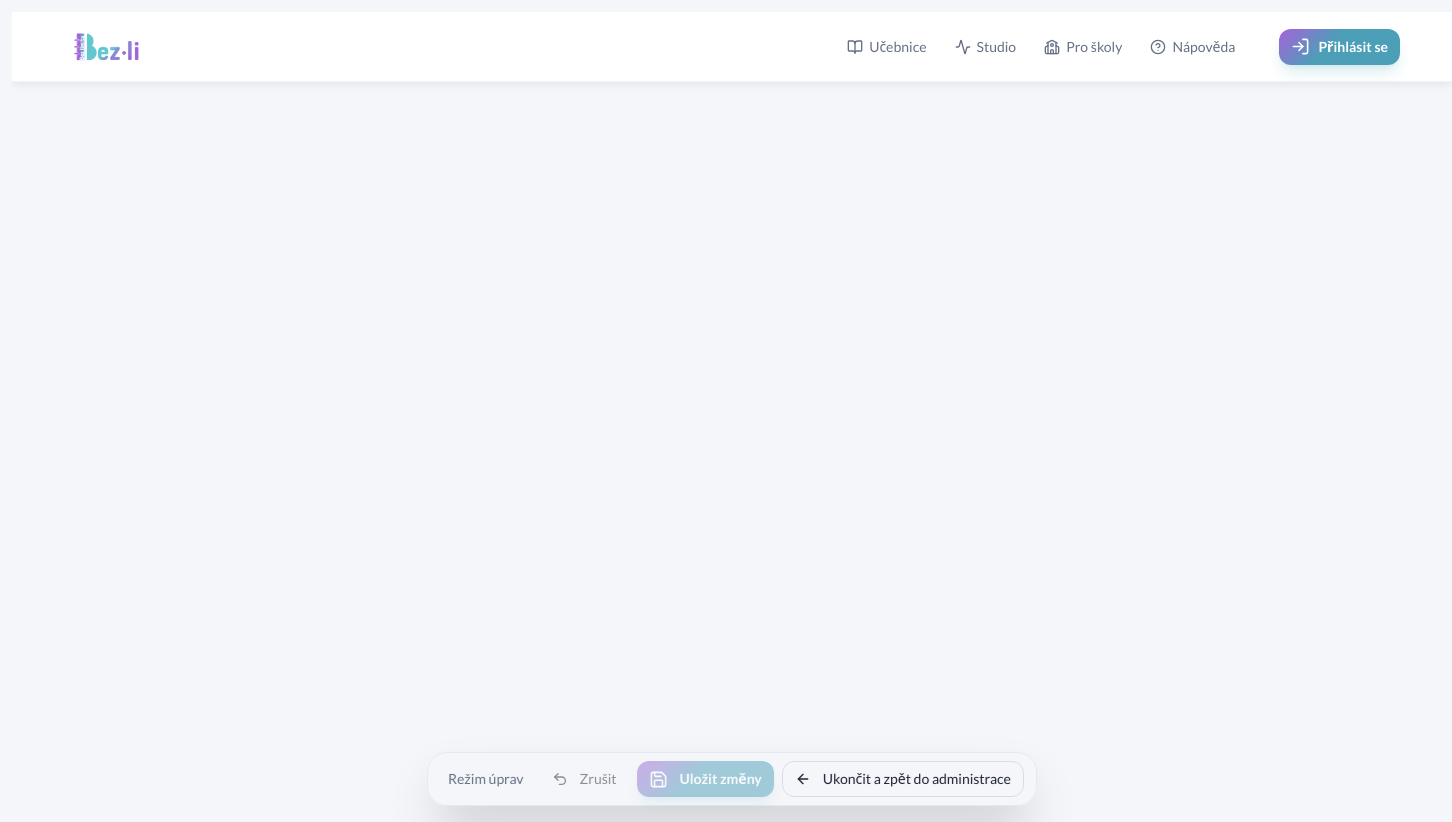
Scenario: vstup do editace úvodní stránky › admin vstoupí z odkazu administrace a může se vrátit
Expected: the text "Režim úprav" is shown, [448,770,524,787]
What coordinates should you click on to do the following:
click the button "Ukončit a zpět do administrace"
I would click on:
 (903, 779)
Its box is [782,761,1024,797].
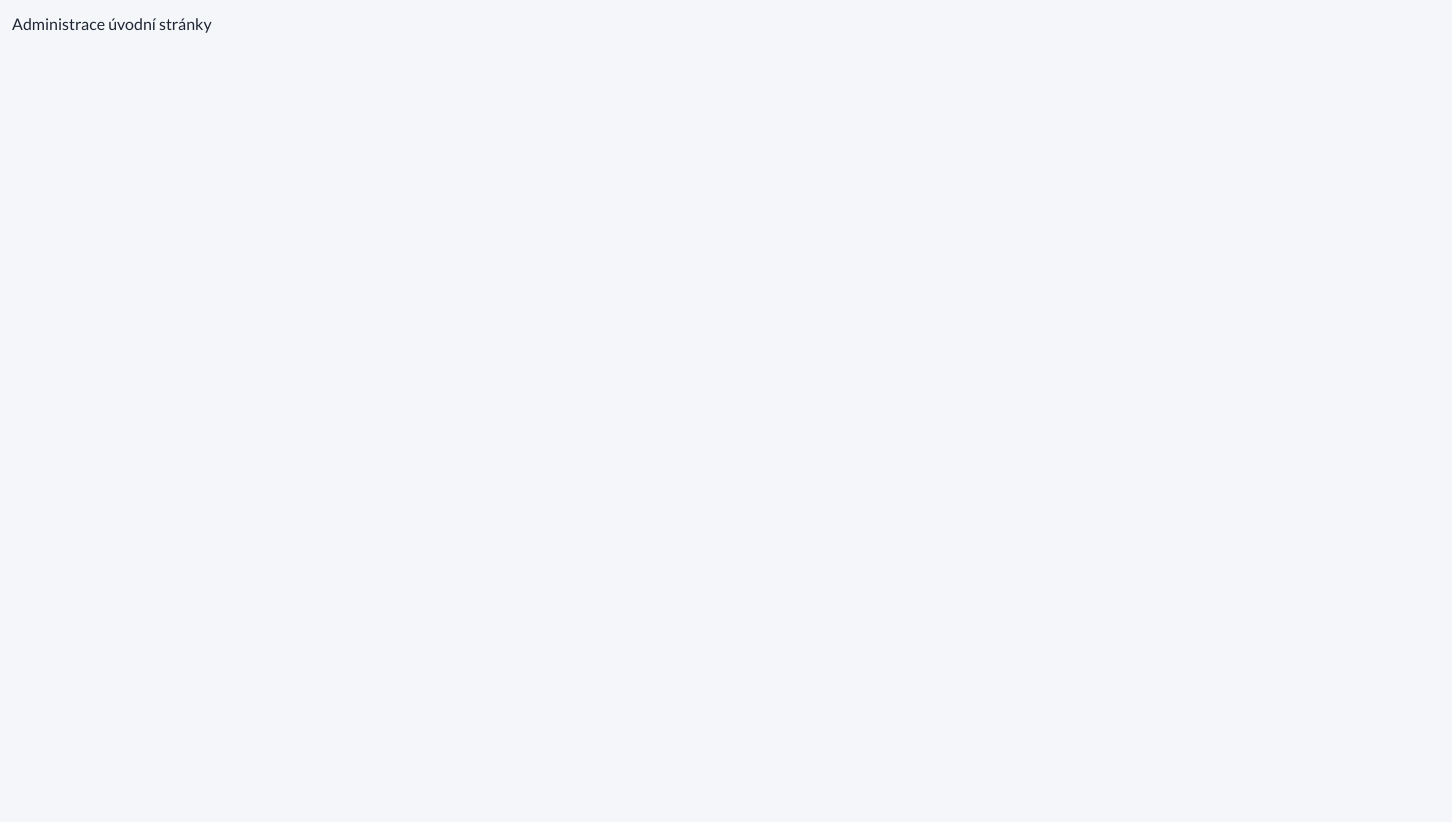
Result: the text "Administrace úvodní stránky" is shown at [12,14,212,33]
Result: the text "Režim úprav" is gone
